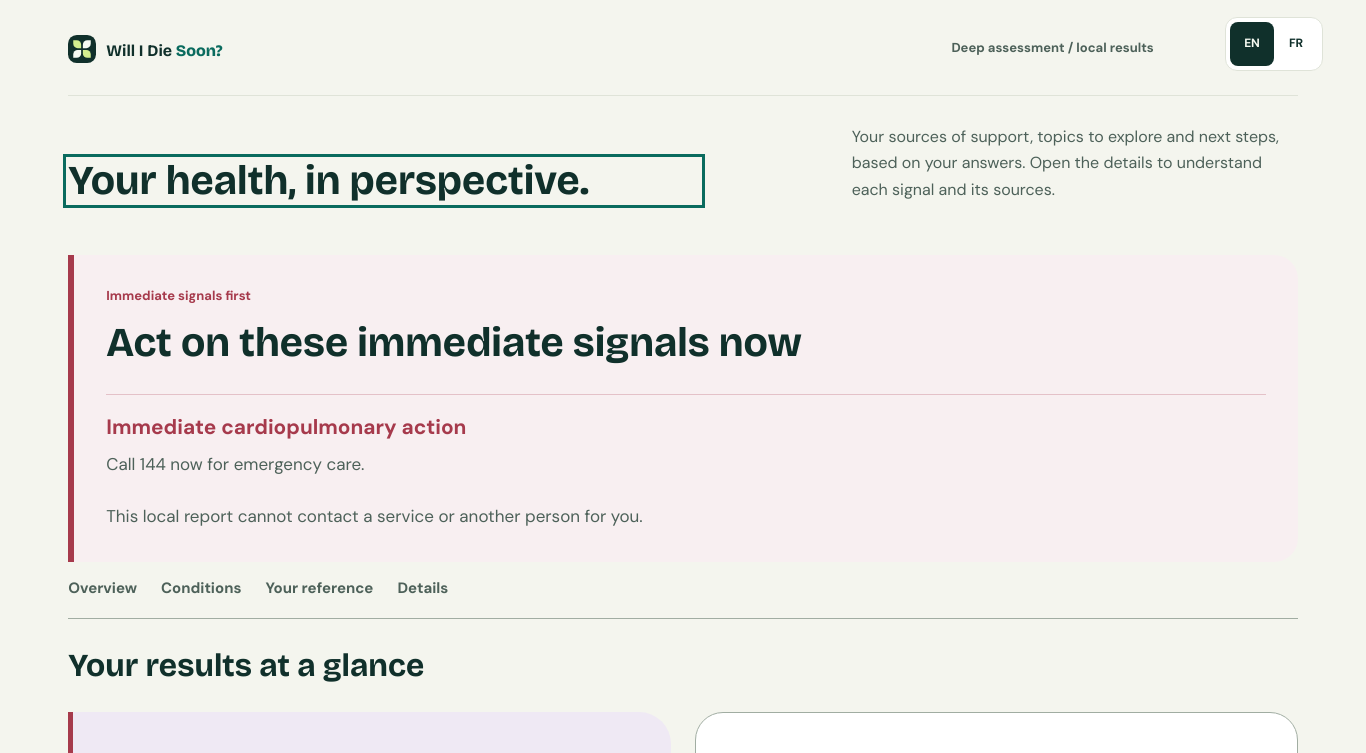
Test: renders the complete adult result presentation in French while preserving clinical machine data
Click the button with aria-label "Français". click: click(1296, 44)
box: [1274,22,1318,66]
(page scrolled)
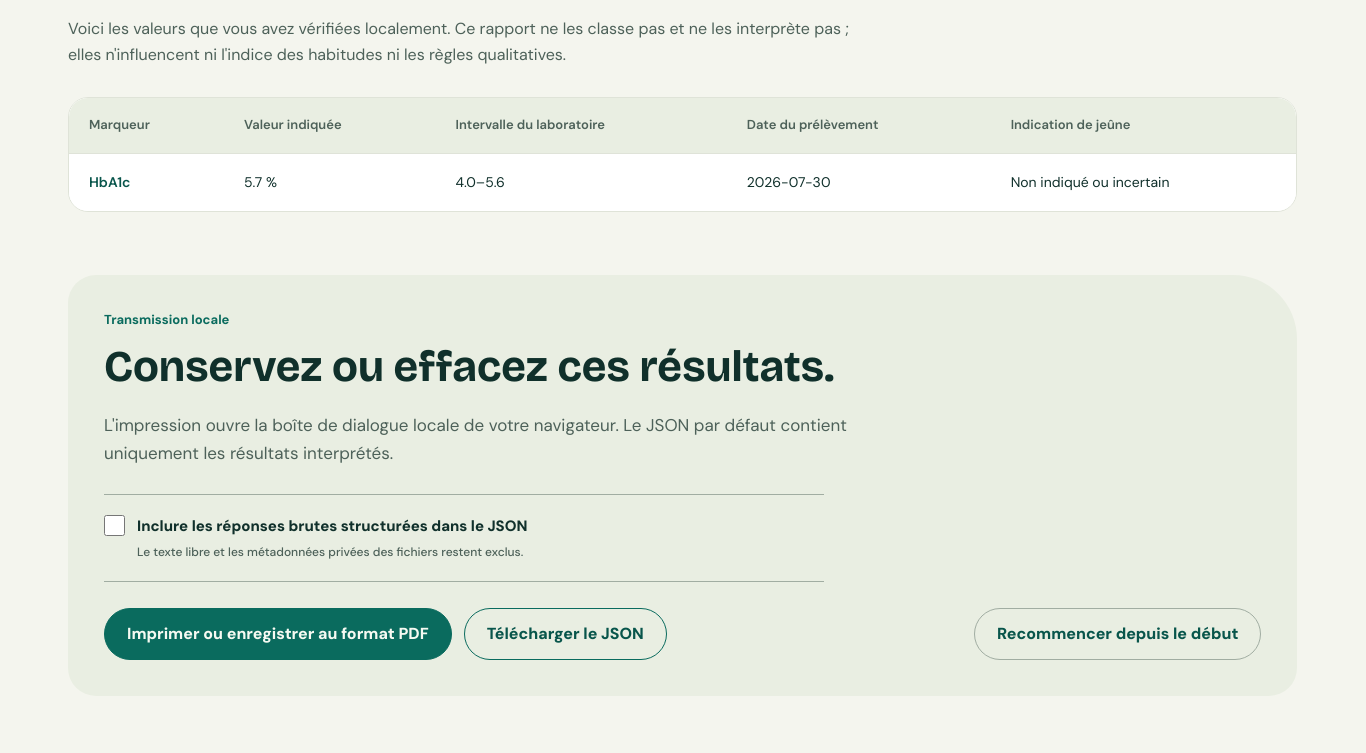
Expected: the element "Contexte de laboratoire confirmé" shows "4.0–5.6", [456,173,505,191]
Expected: the button "Télécharger le JSON" is shown, [464,608,667,660]
Expected: the button "Recommencer depuis le début" is shown, [974,608,1262,660]
